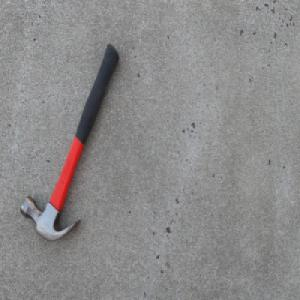Hammer: (20, 41, 120, 243)
